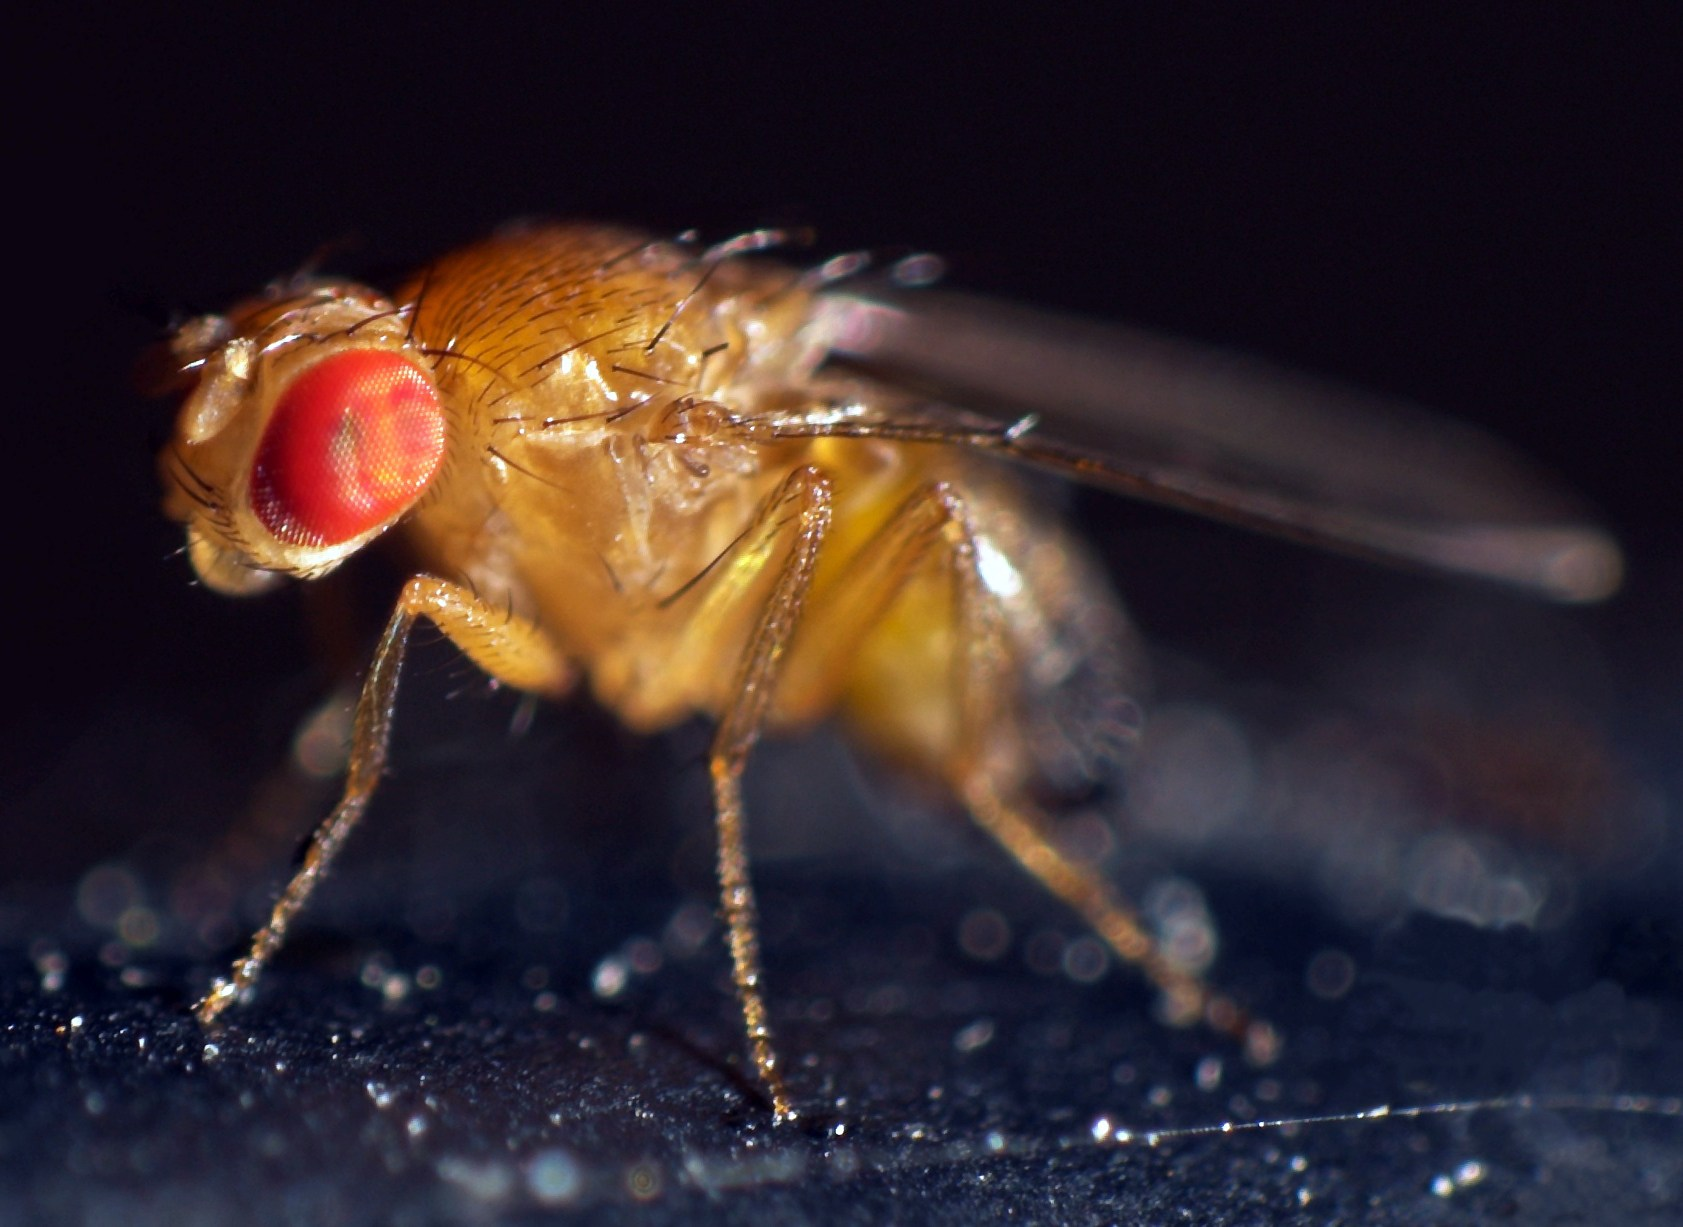Fruit fly: (123, 211, 1226, 1009)
